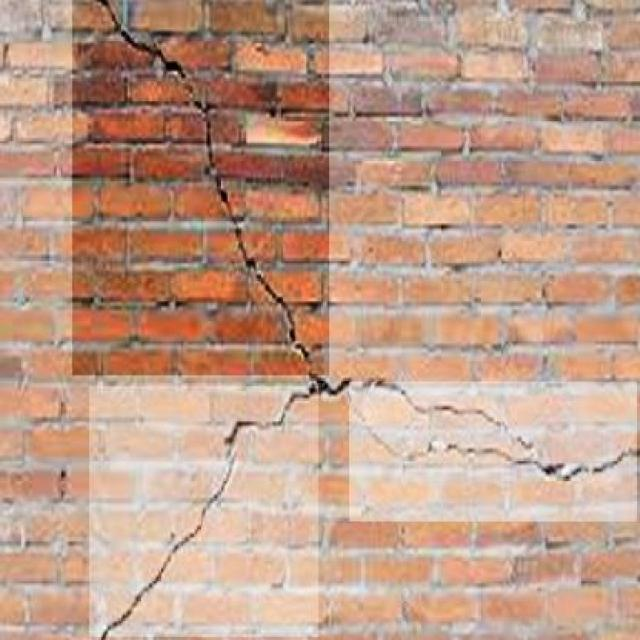Crack: (52, 0, 312, 380), (52, 386, 308, 640), (313, 369, 640, 512)
